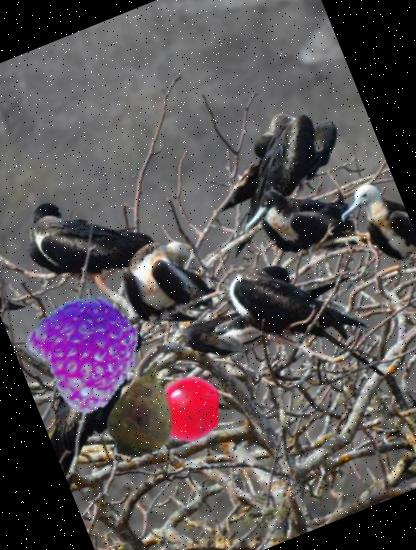Beetroot: (78, 343, 209, 474)
Raspberry: (16, 280, 158, 422)
Redcurrant: (145, 366, 230, 451)
